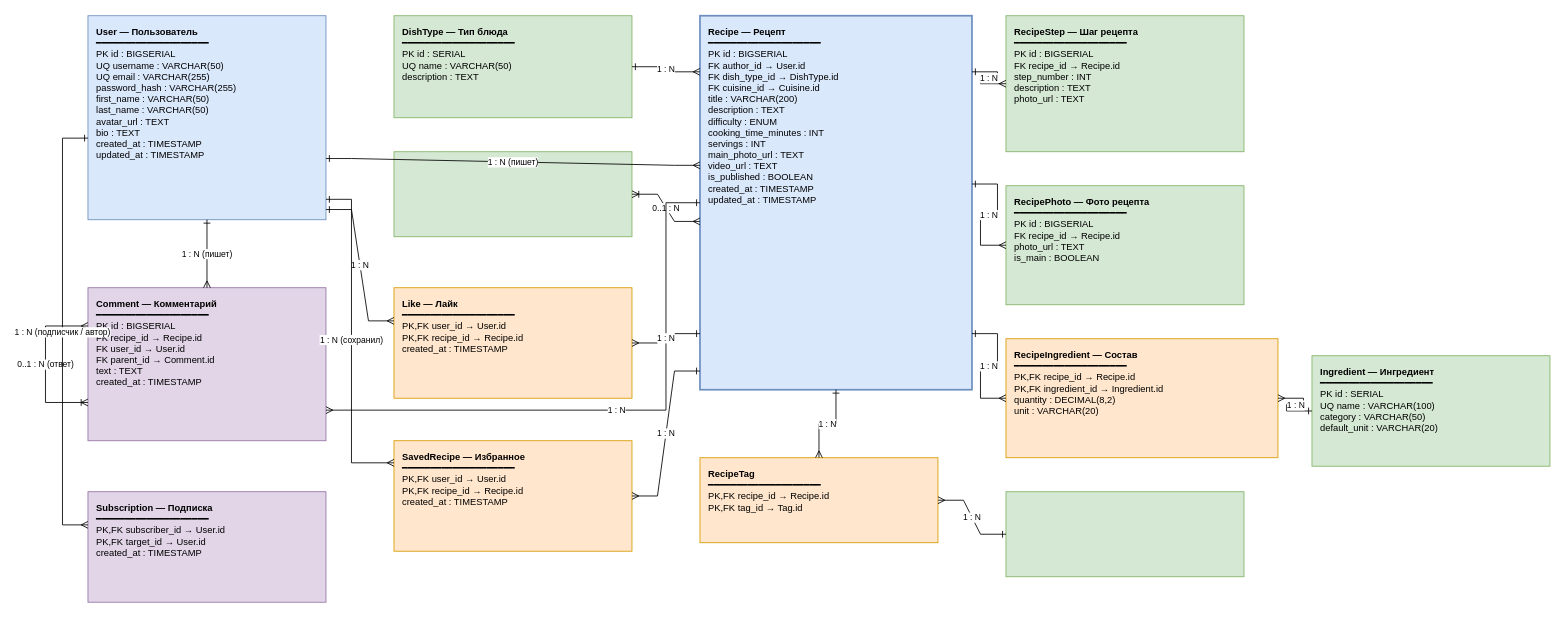
Some shapes in this 1565 by 617 pixel diagram are drawn without their labels. The centre of each missing label's shape, as x and y in pixels:
"Cuisine — Кухня ━━━━━━━━━━━━━━━━━━━━ PK id : SERIAL UQ name : VARCHAR(50)" goes at (x=512, y=194).
"Tag — Тег ━━━━━━━━━━━━━━━━━━━━ PK id : SERIAL UQ name : VARCHAR(50)" goes at (x=1124, y=534).
